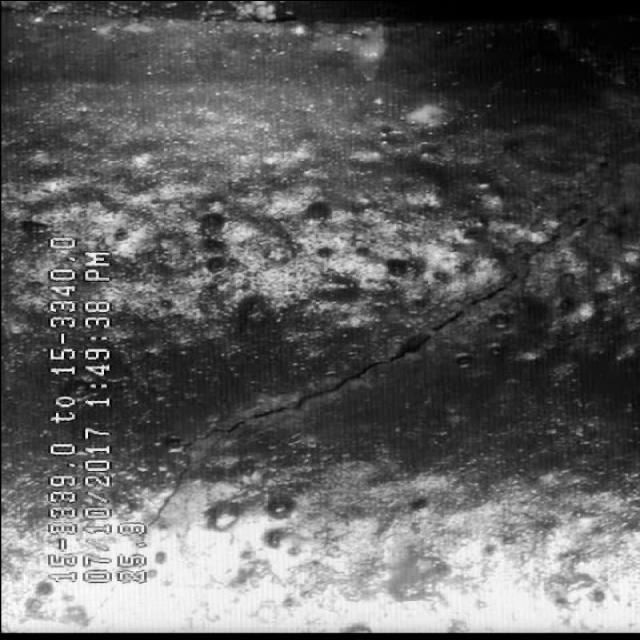Crack: (173, 222, 589, 489)
